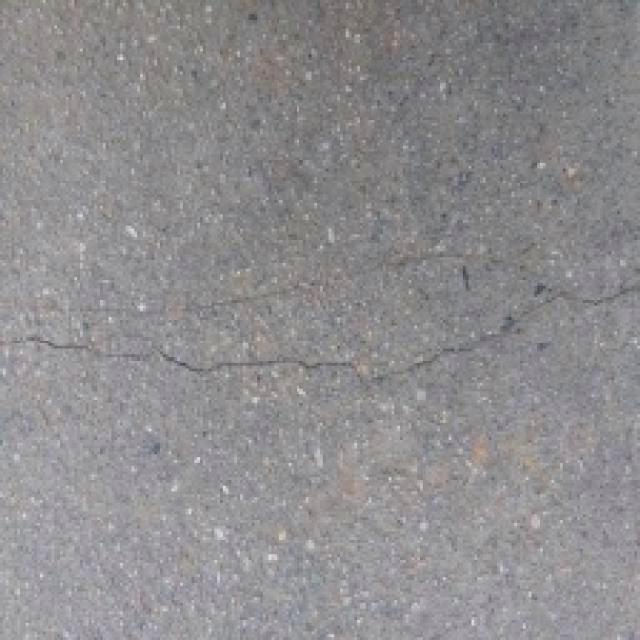SurfaceCrack: (0, 250, 638, 422)
